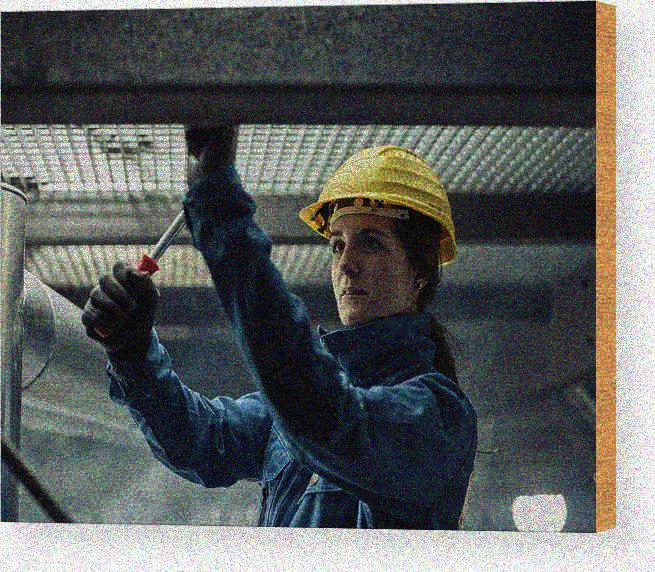helmet: (297, 144, 462, 321)
